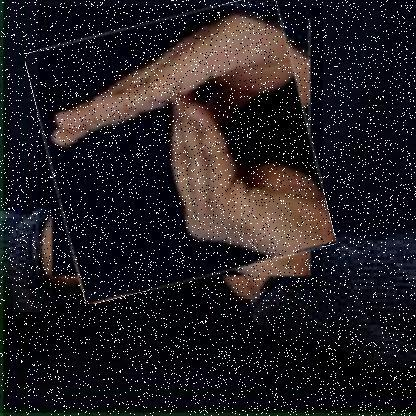Z: (37, 6, 323, 291)
